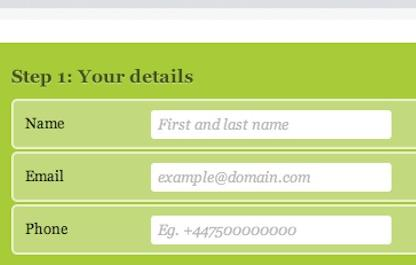field: (148, 213, 394, 248), (147, 107, 393, 141), (148, 162, 394, 193)
field_with_label: (25, 210, 397, 251), (22, 106, 397, 143), (23, 161, 397, 196)
